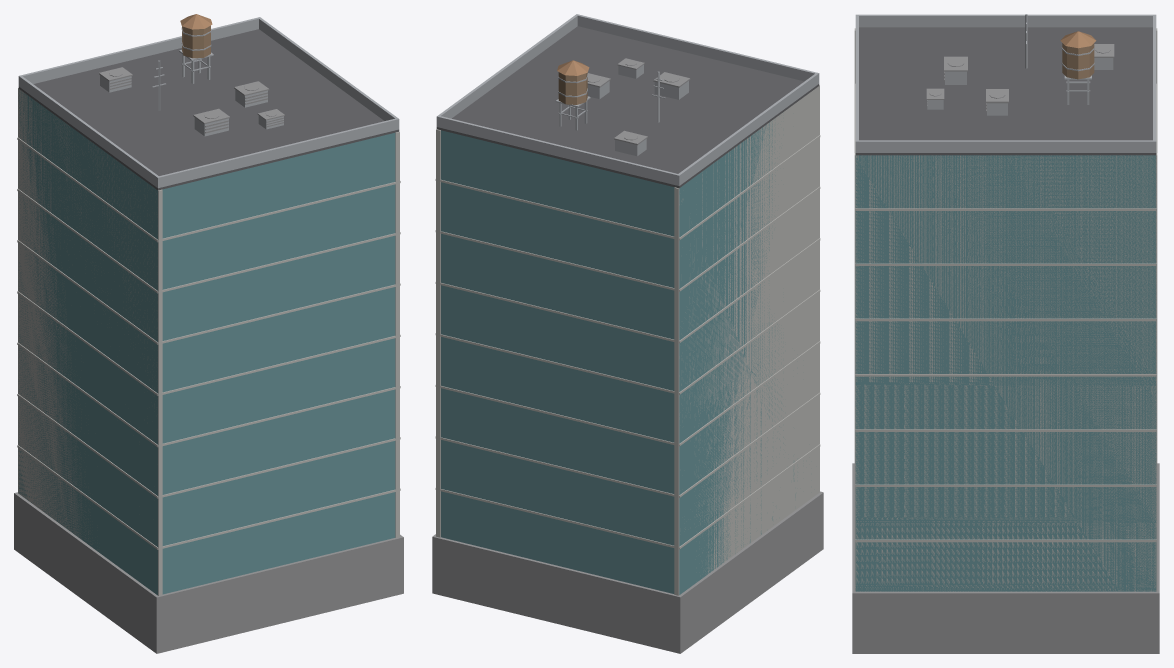
File: bld_glass_03.glb
3 views of the same model, side by side, from view 1: azimuth 30°, elevation 25°; view 2: azimuth 150°, elevation 25°; view 3: azimuth 270°, elevation 25° (orthographic). The views are drawn at different scales.
Visible parts, largest first — view 1: bld_glass_03; view 2: bld_glass_03; view 3: bld_glass_03.
Part boxes in pixels (x1,y1,x2,y2): bld_glass_03: [14, 14, 403, 653]; bld_glass_03: [432, 14, 823, 653]; bld_glass_03: [852, 14, 1159, 653].
Size of the model in its own units: 17.4 by 35.49 by 17.4.
